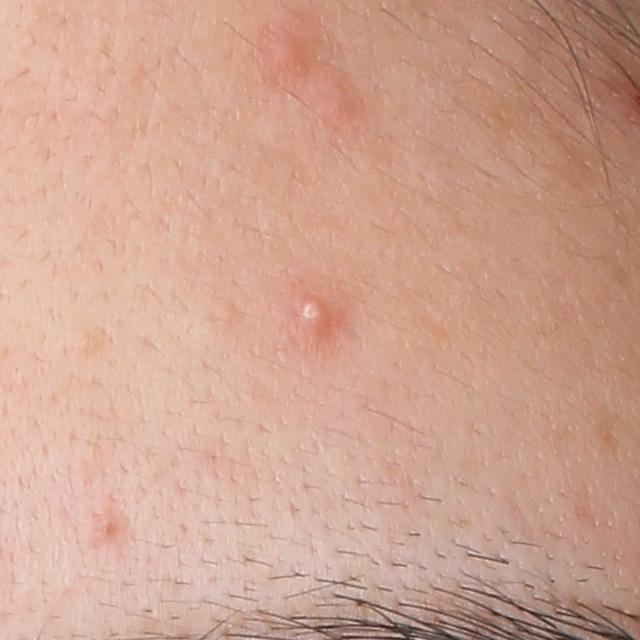papule: (267, 32, 320, 78)
pustule: (288, 289, 334, 342)
